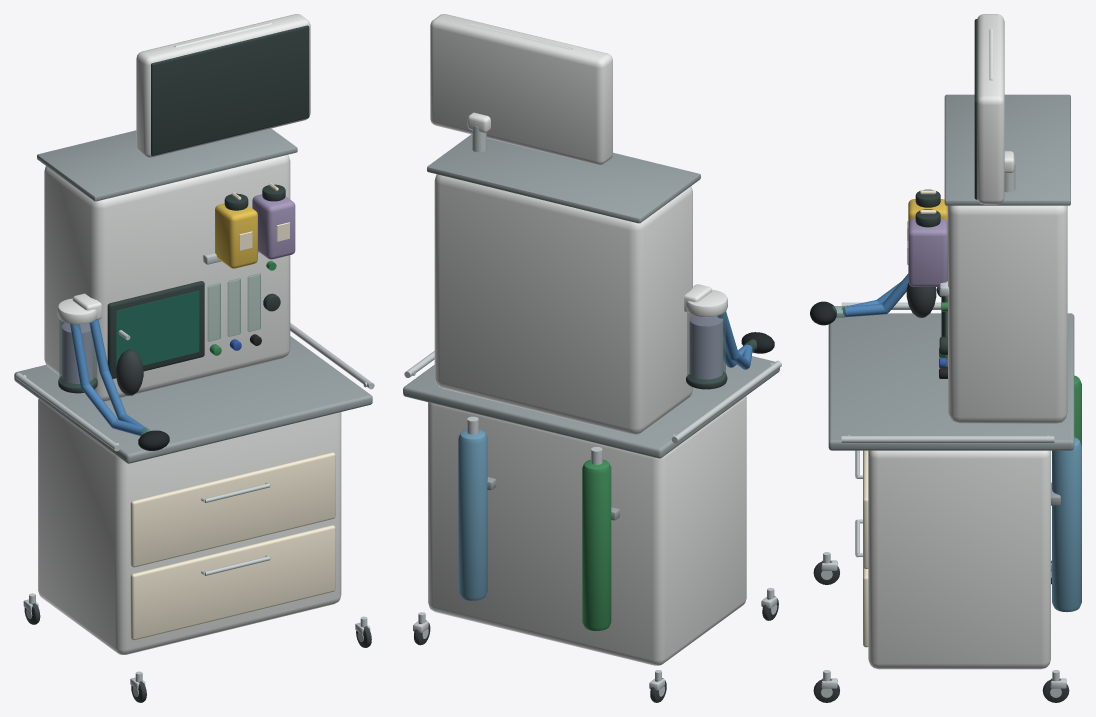
Rendered from sc-anaesthesia-workstation.glb.
The picture shows the model from 3 angles, left to right: view 1: azimuth 30°, elevation 25°; view 2: azimuth 150°, elevation 25°; view 3: azimuth 270°, elevation 25°; orthographic projection. The views are drawn at different scales.
Visible parts, largest first — view 1: sc-anaesthesia-workstation; view 2: sc-anaesthesia-workstation; view 3: sc-anaesthesia-workstation.
Boxes of the visible parts, bbox=[...] form: sc-anaesthesia-workstation: bbox=[14, 14, 374, 702]; sc-anaesthesia-workstation: bbox=[403, 14, 781, 702]; sc-anaesthesia-workstation: bbox=[810, 14, 1081, 702].
Size of the model in its own units: 0.976 by 2.04 by 0.8186.
